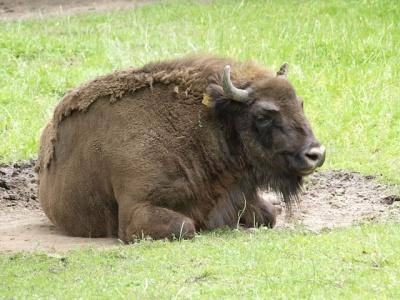buffalo: (35, 54, 327, 245)
